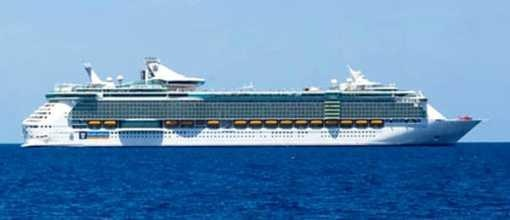youlun: (18, 52, 484, 148)
